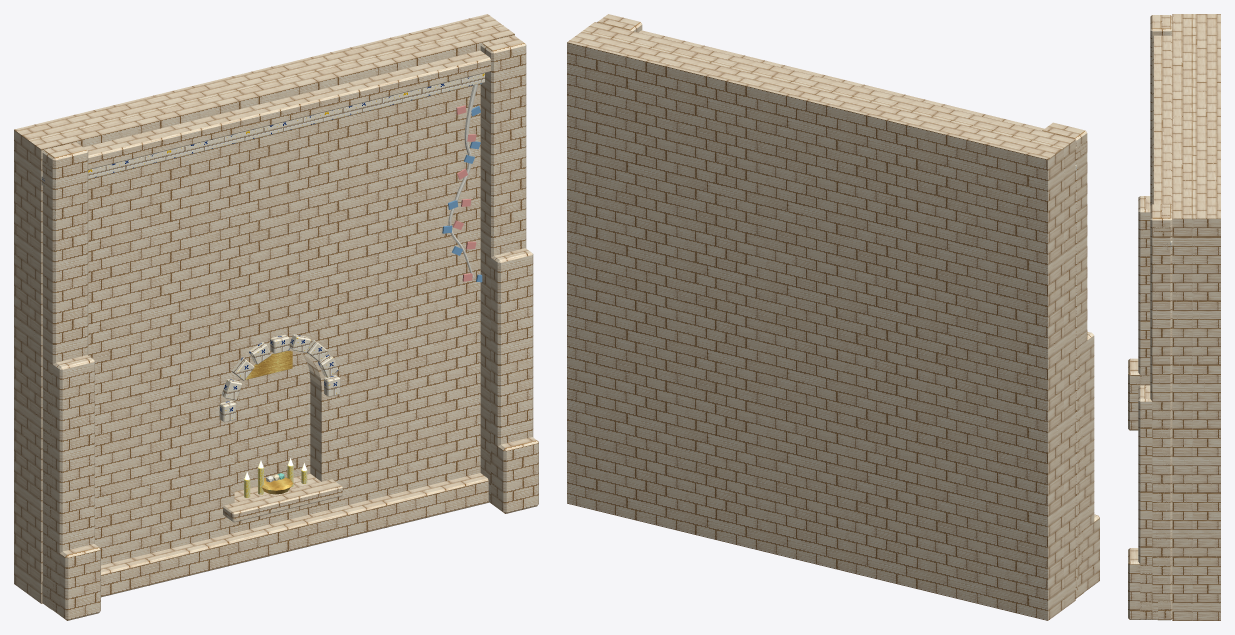
File: tower_wall_plain.glb
3 views of the same model, side by side, from view 1: azimuth 30°, elevation 25°; view 2: azimuth 150°, elevation 25°; view 3: azimuth 270°, elevation 25° (orthographic). The views are drawn at different scales.
Parts seen in each view (by area): view 1: TowerWallPlain; view 2: TowerWallPlain; view 3: TowerWallPlain.
Boxes of the visible parts, <box> form: TowerWallPlain: <box>14,14,538,620</box>; TowerWallPlain: <box>567,14,1099,620</box>; TowerWallPlain: <box>1128,14,1220,620</box>.
Bounding box in the file's own units: 12 × 11 × 2.3.
11 materials, 4 textured.
